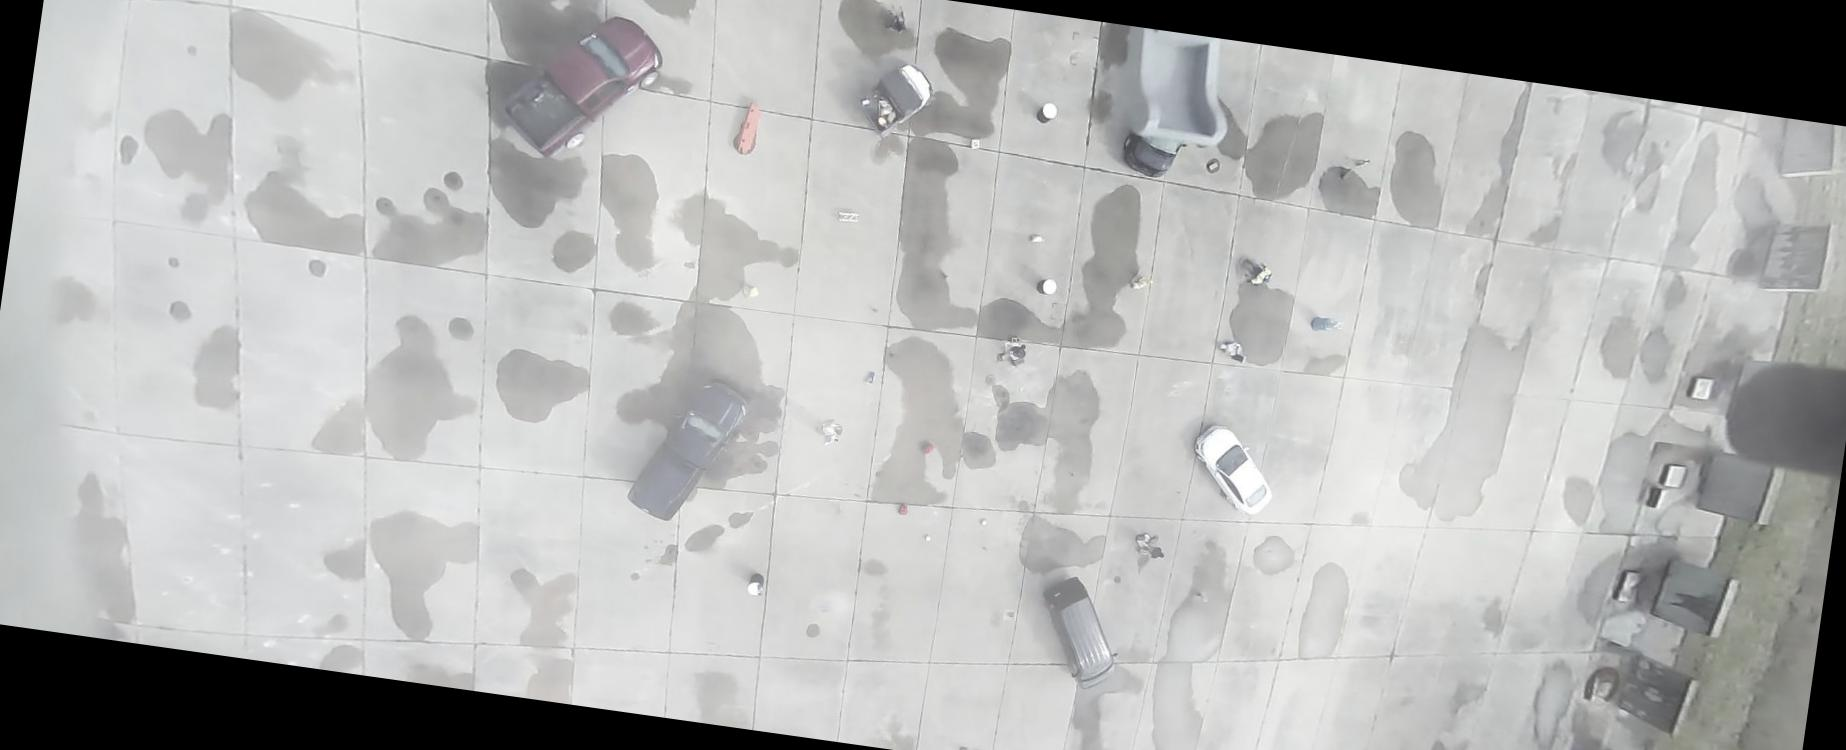vehicle: (491, 0, 668, 173), (624, 371, 752, 529), (1030, 572, 1128, 692), (1186, 420, 1282, 517), (854, 57, 939, 142), (1120, 130, 1188, 180)
